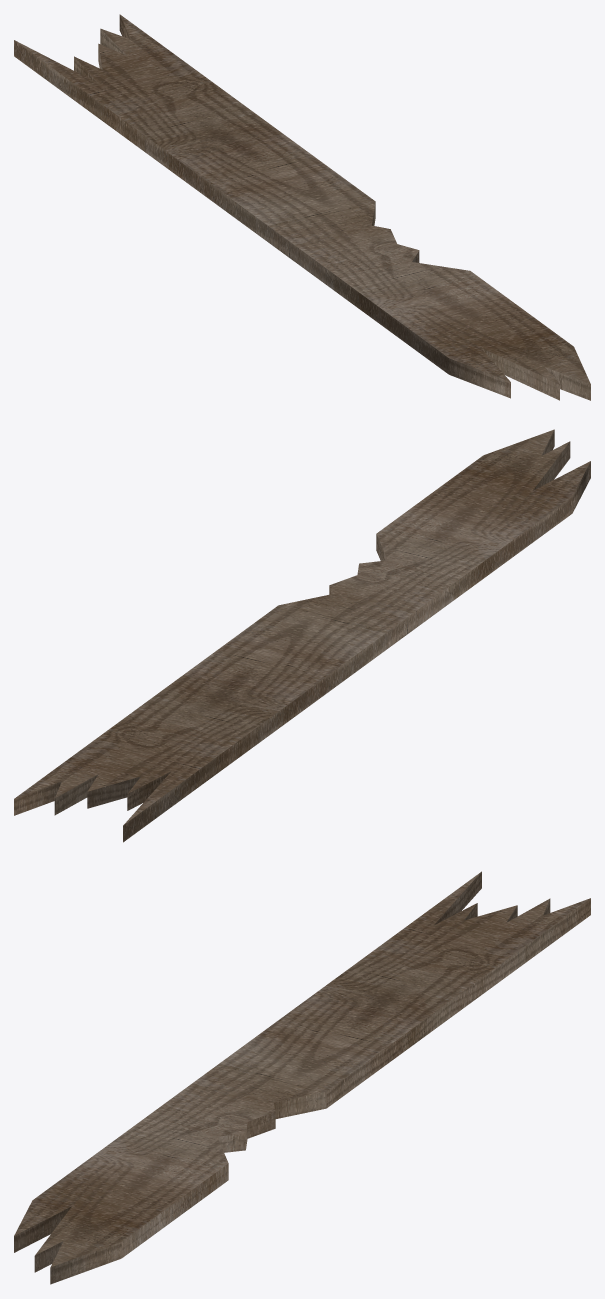
The model's file is DeckWood1.fbx.
3 renders of one model, top to bottom at view 1: azimuth 30°, elevation 25°; view 2: azimuth 150°, elevation 25°; view 3: azimuth 330°, elevation 25°, orthographic. The views are drawn at different scales.
Parts seen in each view (by area): view 1: Cube.001; view 2: Cube.001; view 3: Cube.001.
Part boxes in pixels (x1=…): Cube.001: x1=14, y1=14, x2=590, y2=400; Cube.001: x1=14, y1=429, x2=590, y2=842; Cube.001: x1=14, y1=871, x2=590, y2=1284.
Bounding box in the file's own units: 0.1846 × 0.0275 × 1.51.
